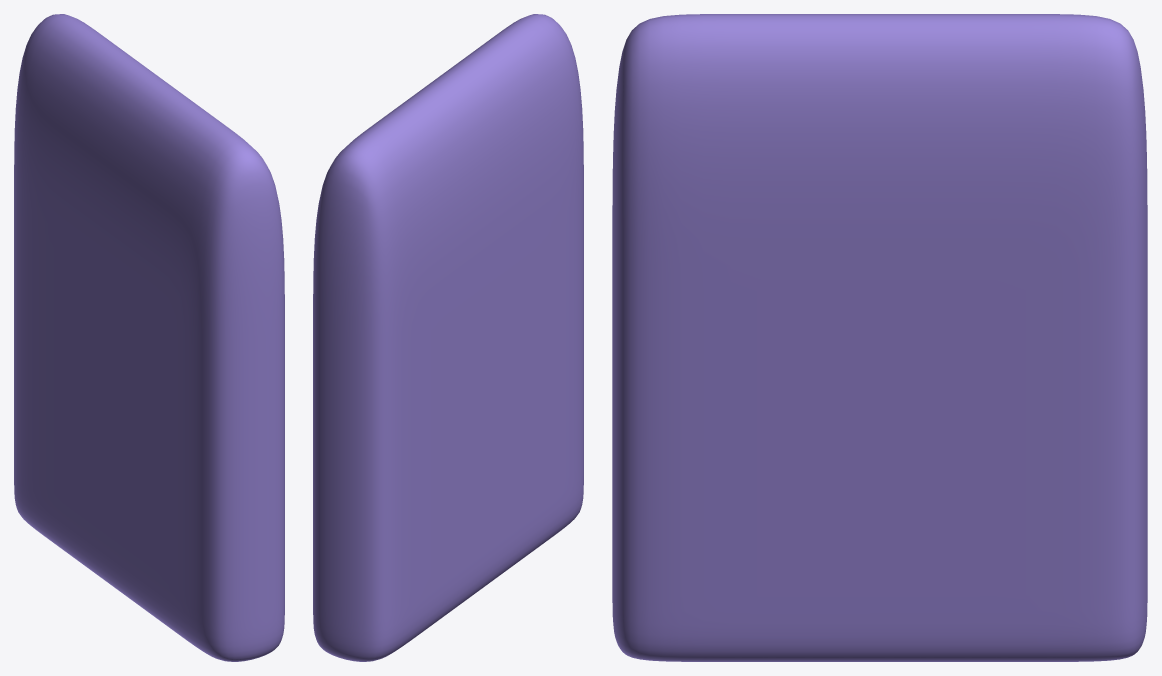
File: door_01.fbx
The picture shows the model from 3 angles, left to right: view 1: azimuth 30°, elevation 25°; view 2: azimuth 150°, elevation 25°; view 3: azimuth 270°, elevation 25°; orthographic projection. The views are drawn at different scales.
Visible parts, largest first — view 1: door; view 2: door; view 3: door.
Part boxes in pixels (<box>): door: <box>14,14,284,661</box>; door: <box>313,14,583,661</box>; door: <box>612,14,1147,661</box>.
Size of the model in its own units: 13.97 by 83.42 by 63.82.
